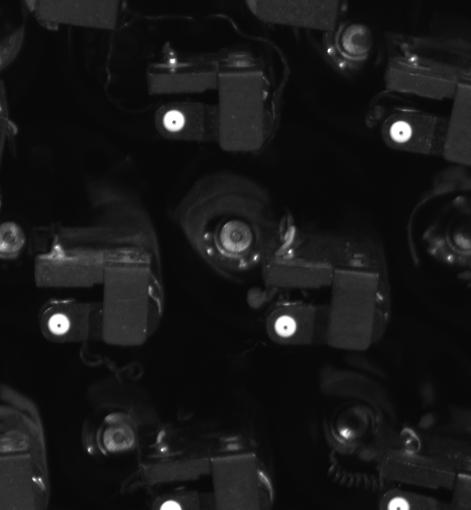fiber: (270, 311, 303, 341), (45, 309, 74, 341), (386, 119, 417, 145), (161, 108, 188, 136), (378, 494, 424, 510)
